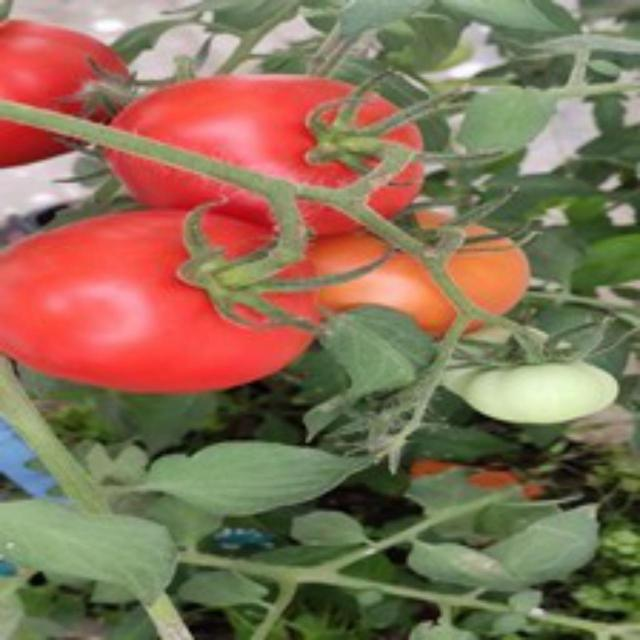tomato: (0, 197, 316, 419)
